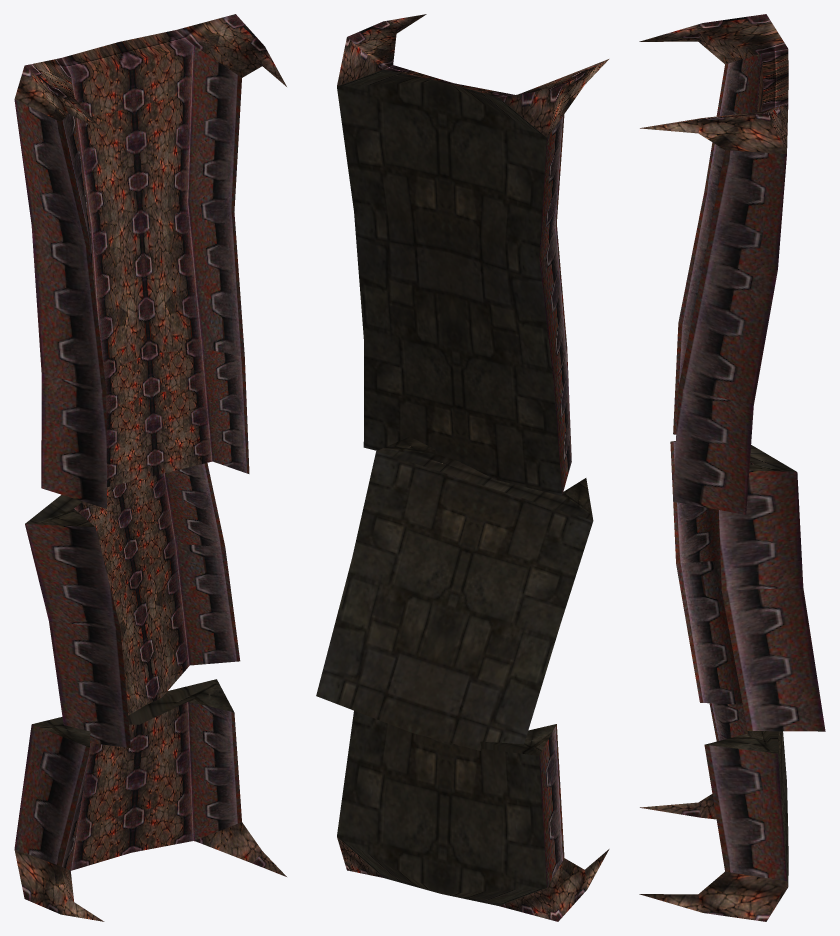
The model's file is bridge-destr_01.obj.
The picture shows the model from 3 angles, left to right: view 1: azimuth 30°, elevation 25°; view 2: azimuth 150°, elevation 25°; view 3: azimuth 270°, elevation 25°; orthographic projection. The views are drawn at different scales.
Visible parts, largest first — view 1: (null); view 2: (null); view 3: (null).
Boxes of the visible parts, box(x1,y1,x2,y2) form: (null): box(14, 14, 286, 921); (null): box(316, 14, 609, 921); (null): box(639, 14, 825, 921).
Bounding box in the file's own units: 2.21 × 7.69 × 1.61.
